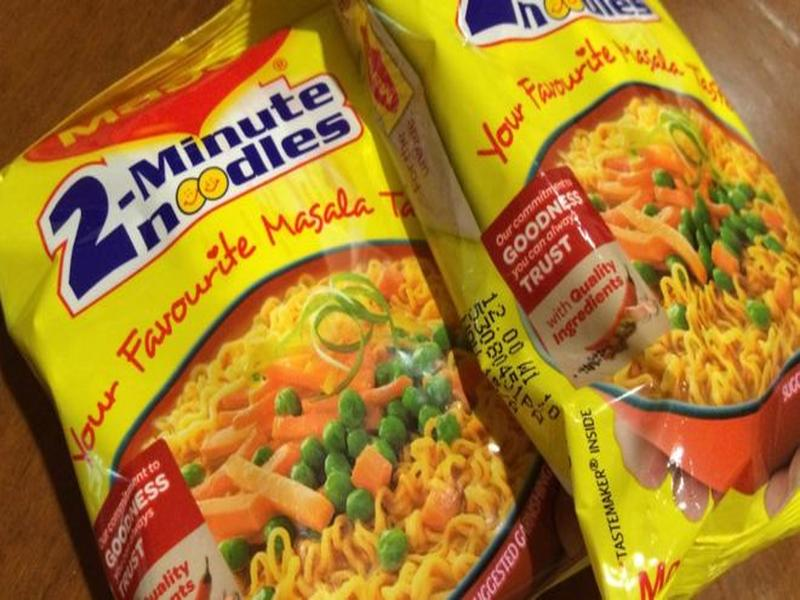maggi-small: (8, 19, 490, 598)
